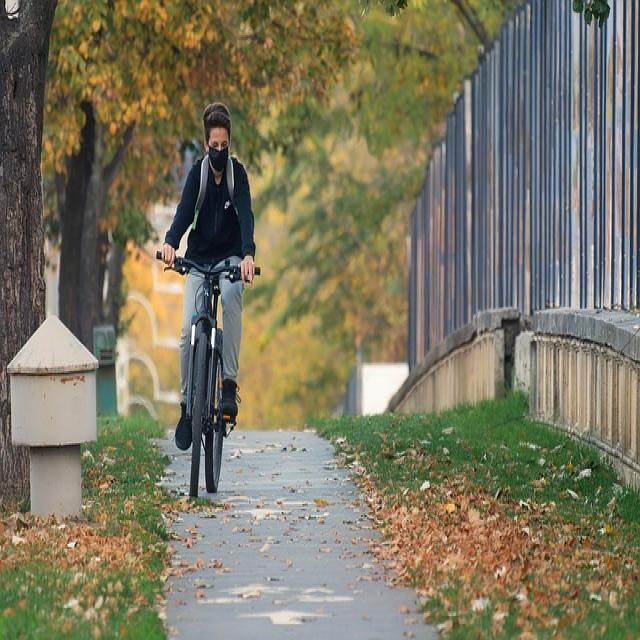Real human 2: (155, 98, 265, 503)
